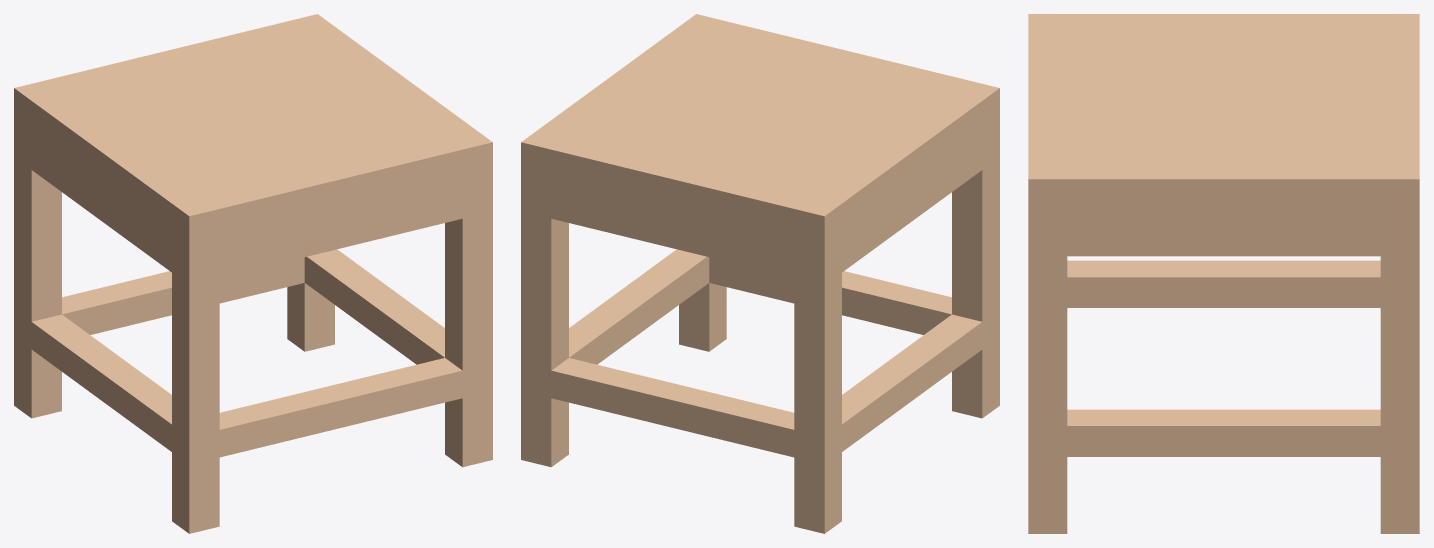
The model's file is kn-table-coffee-square.glb.
The picture shows the model from 3 angles, left to right: view 1: azimuth 30°, elevation 25°; view 2: azimuth 150°, elevation 25°; view 3: azimuth 270°, elevation 25°; orthographic projection. The views are drawn at different scales.
Visible parts, largest first — view 1: tableCoffeeSquare(Clone); view 2: tableCoffeeSquare(Clone); view 3: tableCoffeeSquare(Clone).
Part boxes in pixels (box(x1,y1,x2,y2)): tableCoffeeSquare(Clone): box(14, 14, 492, 533); tableCoffeeSquare(Clone): box(521, 14, 999, 533); tableCoffeeSquare(Clone): box(1028, 14, 1419, 533).
Bounding box in the file's own units: 1 × 1 × 1.
